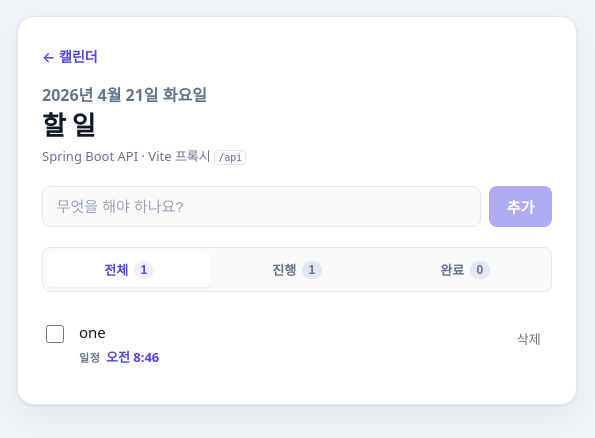
TodoDayPage › shows message when no completed todos in 완료 tab
The width and height of the screenshot is (595, 438).
expect the text "one" is shown: met, box [79,322,106,342]
Click the tab "완료 0".
click(465, 270)  # box [383,252,547,287]
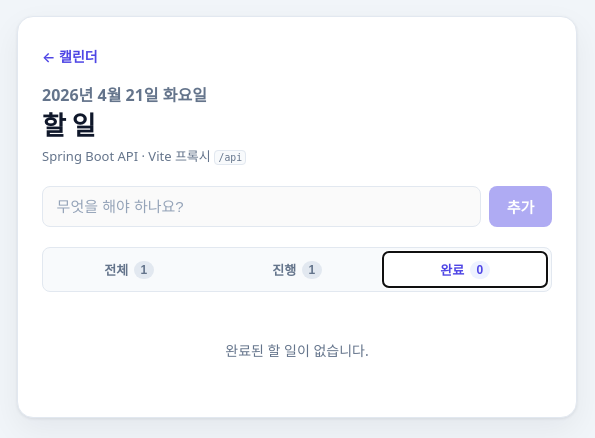
expect the text "완료된 할 일이 없습니다." is shown: met, box [225,341,369,360]
